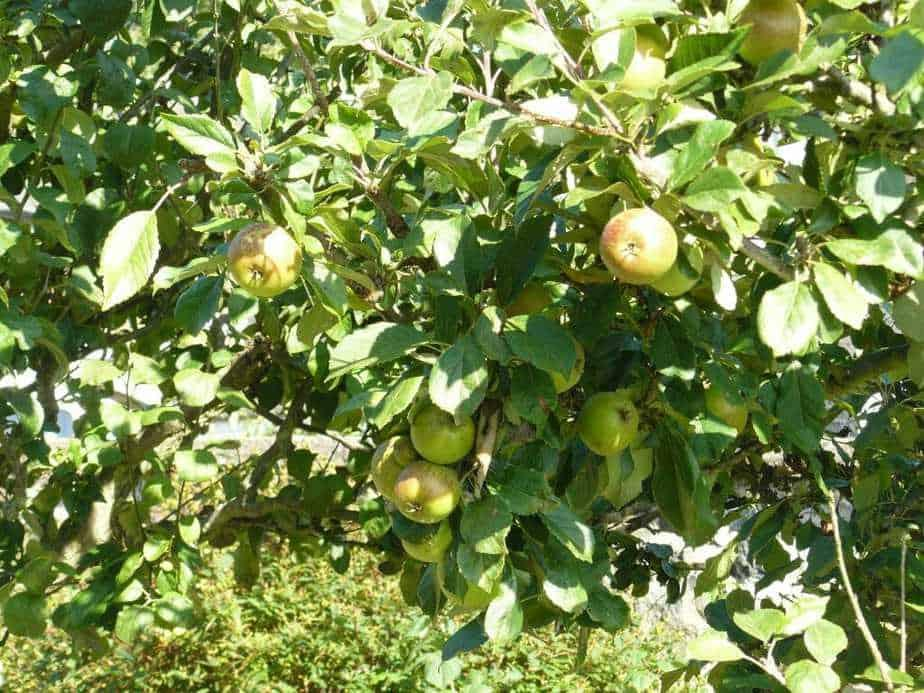apple: (596, 207, 677, 287), (225, 223, 301, 297), (391, 458, 458, 525), (578, 386, 640, 456), (409, 403, 475, 465)
